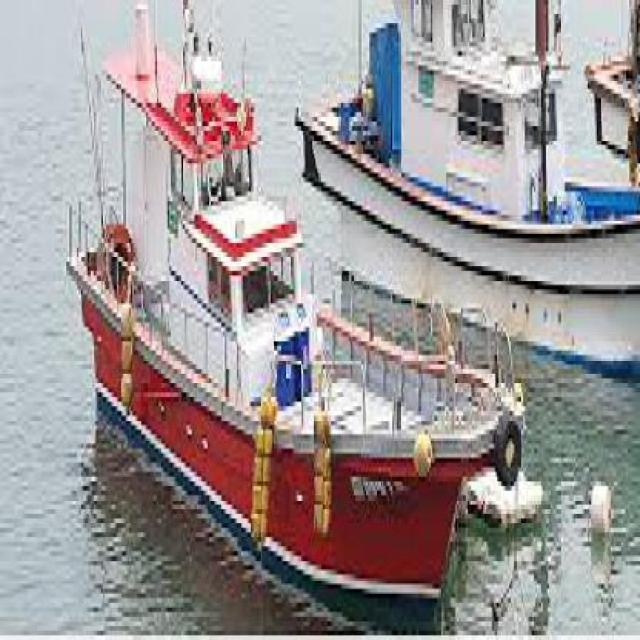fish-b: (64, 1, 533, 636), (291, 1, 640, 407)
